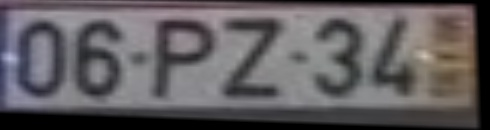0: (14, 18, 71, 101)
3: (309, 14, 370, 101)
4: (369, 17, 426, 101)
6: (71, 17, 128, 102)
P: (150, 18, 221, 103)
Z: (219, 18, 288, 103)
